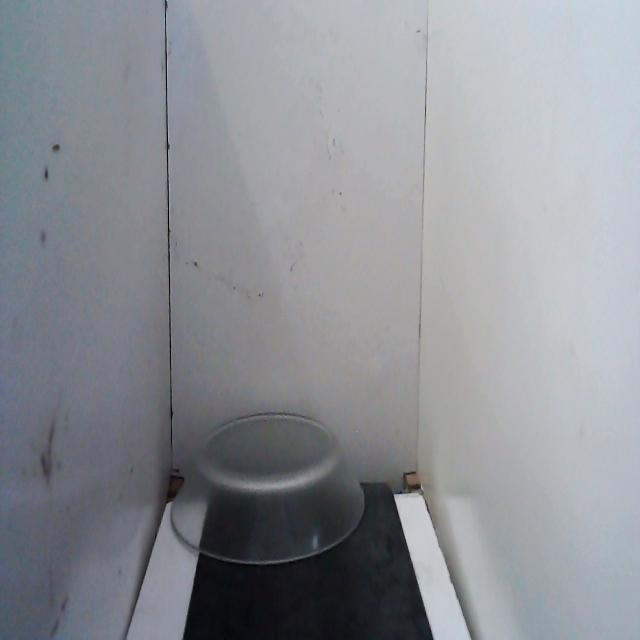vidro: (167, 400, 369, 574)
